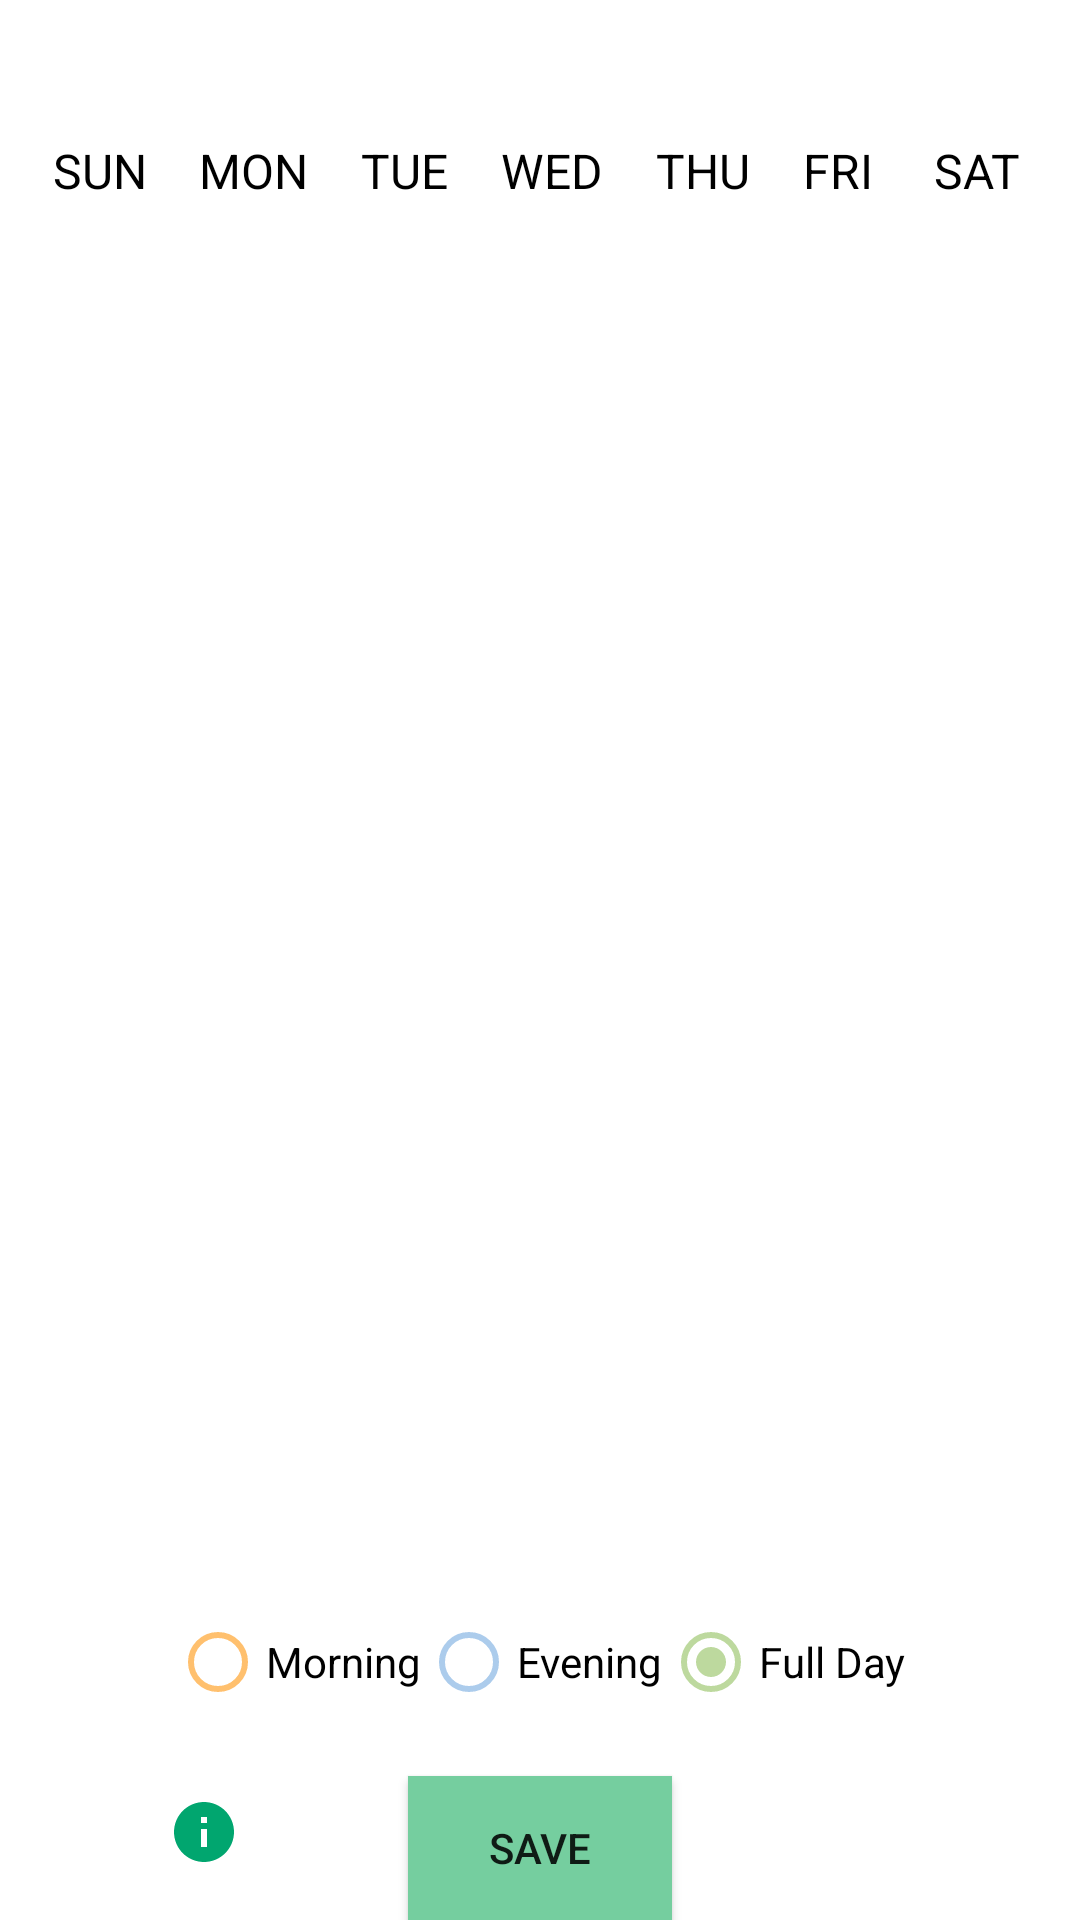

Icons on this 1080px x 1920px Android screen, each with its box as (x1, y1, x2, y2):
info: (174, 1802, 234, 1862)
